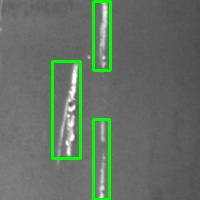scratches: (52, 61, 80, 158), (93, 119, 109, 199), (94, 1, 111, 70)
